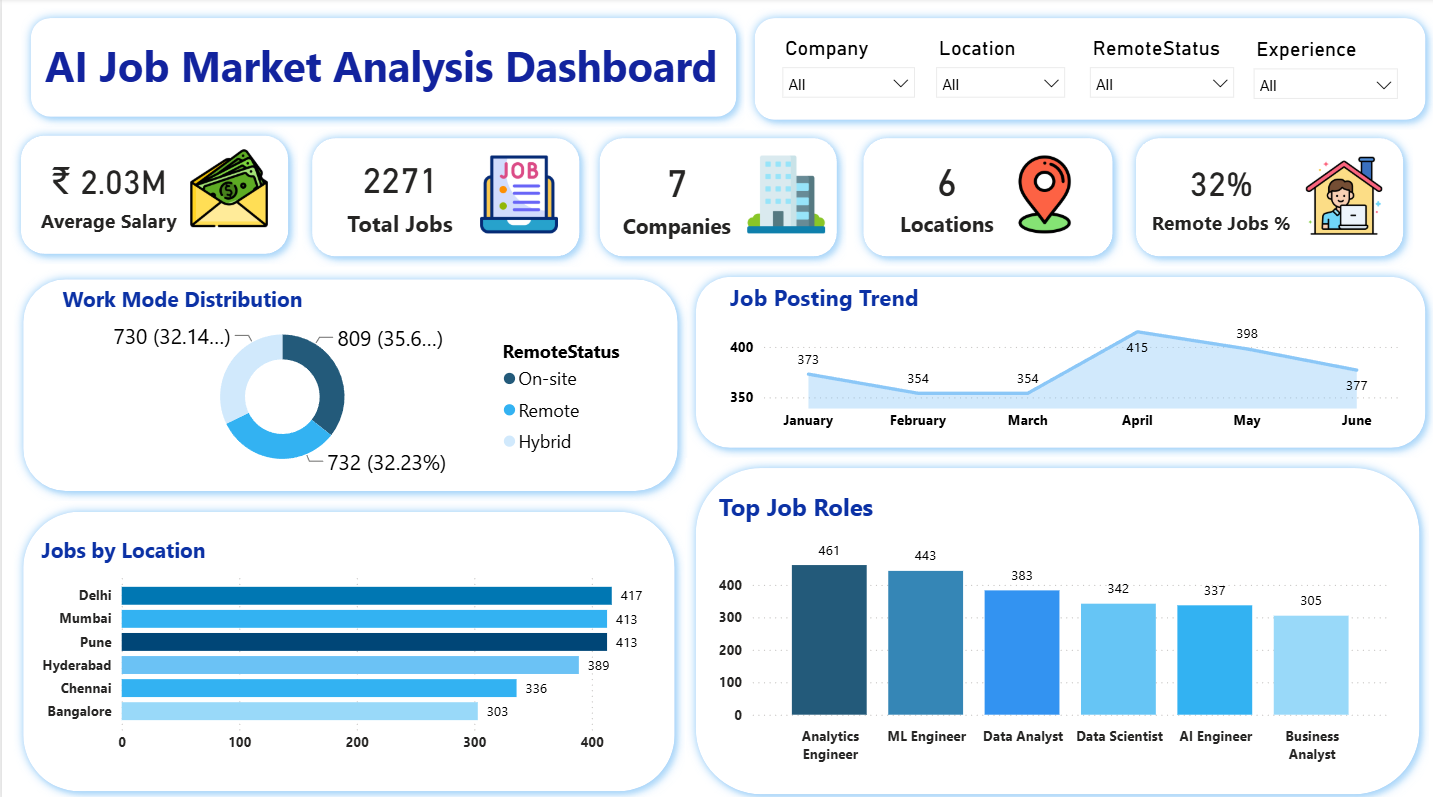

The page's visual inventory and layout, read from the dashboard file:
{"tool":"powerbi","page":{"name":"Executive Overview","canvas":[1280,720],"ordinal":0},"visuals":[{"type":"shape","box":[663,8.6,617.3,108.9],"z":0,"group":"g20"},{"type":"group","id":"g1","title":"Group 1","box":[17.5,9,648.2,106.2],"z":0,"group":"g21"},{"type":"shape","box":[17.5,9,648.2,106.2],"z":0,"group":"g1"},{"type":"group","id":"g2","title":"Group 1","box":[8.1,113.9,256.9,123.7],"z":0,"group":"g11"},{"type":"shape","box":[8.1,113.9,256.9,123.7],"z":0,"group":"g2"},{"type":"group","id":"g3","title":"Group 1","box":[268.6,115.3,256.9,123.7],"z":0,"group":"g13"},{"type":"shape","box":[268.6,115.3,256.9,123.7],"z":0,"group":"g3"},{"type":"group","id":"g4","title":"Group 1","box":[525.4,115.3,230,123.7],"z":0,"group":"g12"},{"type":"shape","box":[525.4,115.3,230,123.7],"z":0,"group":"g4"},{"type":"group","id":"g5","title":"Group 1","box":[760.8,115.3,240.7,123.7],"z":0,"group":"g14"},{"type":"shape","box":[760.8,115.3,240.7,123.7],"z":0,"group":"g5"},{"type":"group","id":"g6","title":"Group 1","box":[1004,116.2,256.9,123.7],"z":0,"group":"g15"},{"type":"shape","box":[1004,116.2,256.9,123.7],"z":0,"group":"g6"},{"type":"group","id":"g7","title":"Group 1","box":[610.6,239.3,669.7,170.8],"z":0,"group":"g18"},{"type":"shape","box":[610.6,239.3,669.7,170.8],"z":0,"group":"g7"},{"type":"group","id":"g8","title":"Group 1","box":[10.8,242,602.5,207.1],"z":0,"group":"g17"},{"type":"shape","box":[10.8,242,602.5,207.1],"z":0,"group":"g8"},{"type":"group","id":"g9","title":"Group 1","box":[610.9,410.1,664.3,309.3],"z":0,"group":"g19"},{"type":"shape","box":[610.9,410.1,664.3,309.3],"z":0,"group":"g9"},{"type":"group","id":"g10","title":"Group 1","box":[10.8,449.1,599.8,267.6],"z":0,"group":"g16"},{"type":"shape","box":[10.8,449.1,599.8,267.6],"z":0,"group":"g10"},{"type":"textbox","box":[34.6,30.5,615.4,64.6],"z":1000,"group":"g1"},{"type":"group","id":"g11","title":"Group 2","box":[8.1,113.9,256.9,123.7],"z":1000,"group":"g21"},{"type":"card","fields":{"Values":["AI_Job_Market.Average Salary"]},"box":[25.6,128.7,139.9,90.1],"z":1000,"group":"g11"},{"type":"card","fields":{"Values":["AI_Job_Market.Total Jobs"]},"box":[286.1,128.7,139.9,90.1],"z":1000,"group":"g13"},{"type":"card","fields":{"Values":["AI_Job_Market.Locations"]},"box":[778.3,128.7,131.8,90.1],"z":1000,"group":"g14"},{"type":"card","fields":{"Values":["AI_Job_Market.Companies"]},"box":[541.5,130.1,125.1,90.1],"z":1000,"group":"g12"},{"type":"card","fields":{"Values":["AI_Job_Market.Remote Jobs %"]},"box":[1020.1,131,139.9,90.1],"z":1000,"group":"g15"},{"type":"group","id":"g12","title":"Group 2","box":[525.4,115.3,230,123.7],"z":2000,"group":"g21"},{"type":"image","box":[156,135.4,95.5,69.9],"z":2000,"group":"g11"},{"type":"image","box":[415.2,139.5,95.5,69.9],"z":2000,"group":"g13"},{"type":"image","box":[657.8,139.5,85.5,69.9],"z":2000,"group":"g12"},{"type":"image","box":[886.8,139.5,89.5,69.9],"z":2000,"group":"g14"},{"type":"image","box":[1151.9,141.8,95.5,69.9],"z":2000,"group":"g15"},{"type":"group","id":"g13","title":"Group 2","box":[268.6,115.3,256.9,123.7],"z":3000,"group":"g21"},{"type":"group","id":"g14","title":"Group 2","box":[760.8,115.3,240.7,123.7],"z":4000,"group":"g21"},{"type":"group","id":"g15","title":"Group 2","box":[1004,116.2,256.9,123.7],"z":5000,"group":"g21"},{"type":"group","id":"g16","title":"Group 2","box":[10.8,449.1,599.8,267.6],"z":6000,"group":"g21"},{"type":"lineChart","title":"Job Posting Trend","fields":{"Y":["CountNonNull(AI_Job_Market.JobTitle)"],"Category":["AI_Job_Market.PostingDate.Variation.Date Hierarchy.Month"]},"box":[644.7,253.1,609.2,142.5],"z":6001,"group":"g18"},{"type":"donutChart","title":"Work Mode Distribution","fields":{"Category":["AI_Job_Market.RemoteStatus"],"Y":["CountNonNull(AI_Job_Market.JobTitle)"]},"box":[50.1,255.1,524,176.5],"z":6001,"group":"g17"},{"type":"columnChart","title":"Top Job Roles","fields":{"Category":["AI_Job_Market.JobTitle"],"Y":["CountNonNull(AI_Job_Market.JobTitle)"]},"box":[635.1,439.7,609.2,251.5],"z":6001,"group":"g19"},{"type":"clusteredBarChart","title":"Jobs by Location","fields":{"Category":["AI_Job_Market.Location"],"Y":["CountNonNull(AI_Job_Market.JobTitle)"]},"box":[31.2,479.7,558.8,202.9],"z":6001,"group":"g16"},{"type":"group","id":"g17","title":"Group 2","box":[10.8,242,602.5,207.1],"z":7000,"group":"g21"},{"type":"group","id":"g18","title":"Group 2","box":[610.6,239.3,669.7,170.8],"z":8000,"group":"g21"},{"type":"group","id":"g19","title":"Group 2","box":[610.9,410.1,664.3,309.3],"z":9000,"group":"g21"},{"type":"group","id":"g20","title":"Group 1","box":[663,8.6,617.3,108.9],"z":10000,"group":"g21"},{"type":"slicer","fields":{"Values":["AI_Job_Market.Company"]},"box":[687.2,28.2,138.5,65.9],"z":11000,"group":"g21"},{"type":"slicer","fields":{"Values":["AI_Job_Market.Location"]},"box":[824.4,28.2,135.8,65.9],"z":12000,"group":"g21"},{"type":"slicer","fields":{"Values":["AI_Job_Market.RemoteStatus"]},"box":[961.6,28.2,149.3,65.9],"z":13000,"group":"g21"},{"type":"slicer","fields":{"Values":["AI_Job_Market.Experience"]},"box":[1108.1,29.6,149.3,65.9],"z":14000,"group":"g21"},{"type":"group","id":"g21","title":"Group 3","box":[8.1,8.6,1272.2,710.8],"z":14001}]}

Visuals, with their boxes in screenshot pixels (x1, y1, x2, y2), scaled from the page's 1280x720 canvas onto the 1433x797 screenshot:
shape: crop(742, 10, 1432, 130)
"Group 1" group: crop(20, 10, 745, 128)
shape: crop(20, 10, 745, 128)
"Group 1" group: crop(9, 126, 297, 263)
shape: crop(9, 126, 297, 263)
"Group 1" group: crop(301, 128, 588, 265)
shape: crop(301, 128, 588, 265)
"Group 1" group: crop(588, 128, 846, 265)
shape: crop(588, 128, 846, 265)
"Group 1" group: crop(852, 128, 1121, 265)
shape: crop(852, 128, 1121, 265)
"Group 1" group: crop(1124, 129, 1412, 266)
shape: crop(1124, 129, 1412, 266)
"Group 1" group: crop(684, 265, 1432, 454)
shape: crop(684, 265, 1432, 454)
"Group 1" group: crop(12, 268, 687, 497)
shape: crop(12, 268, 687, 497)
"Group 1" group: crop(684, 454, 1428, 796)
shape: crop(684, 454, 1428, 796)
"Group 1" group: crop(12, 497, 684, 793)
shape: crop(12, 497, 684, 793)
textbox: crop(39, 34, 728, 105)
"Group 2" group: crop(9, 126, 297, 263)
card - AI_Job_Market.Average Salary: crop(29, 142, 185, 242)
card - AI_Job_Market.Total Jobs: crop(320, 142, 477, 242)
card - AI_Job_Market.Locations: crop(871, 142, 1019, 242)
card - AI_Job_Market.Companies: crop(606, 144, 746, 244)
card - AI_Job_Market.Remote Jobs %: crop(1142, 145, 1299, 245)
"Group 2" group: crop(588, 128, 846, 265)
image: crop(175, 150, 282, 227)
image: crop(465, 154, 572, 232)
image: crop(736, 154, 832, 232)
image: crop(993, 154, 1093, 232)
image: crop(1290, 157, 1397, 234)
"Group 2" group: crop(301, 128, 588, 265)
"Group 2" group: crop(852, 128, 1121, 265)
"Group 2" group: crop(1124, 129, 1412, 266)
"Group 2" group: crop(12, 497, 684, 793)
"Job Posting Trend" lineChart: crop(722, 280, 1404, 438)
"Work Mode Distribution" donutChart: crop(56, 282, 643, 478)
"Top Job Roles" columnChart: crop(711, 487, 1393, 765)
"Jobs by Location" clusteredBarChart: crop(35, 531, 661, 756)
"Group 2" group: crop(12, 268, 687, 497)
"Group 2" group: crop(684, 265, 1432, 454)
"Group 2" group: crop(684, 454, 1428, 796)
"Group 1" group: crop(742, 10, 1432, 130)
slicer - AI_Job_Market.Company: crop(769, 31, 924, 104)
slicer - AI_Job_Market.Location: crop(923, 31, 1075, 104)
slicer - AI_Job_Market.RemoteStatus: crop(1077, 31, 1244, 104)
slicer - AI_Job_Market.Experience: crop(1241, 33, 1408, 106)
"Group 3" group: crop(9, 10, 1432, 796)
